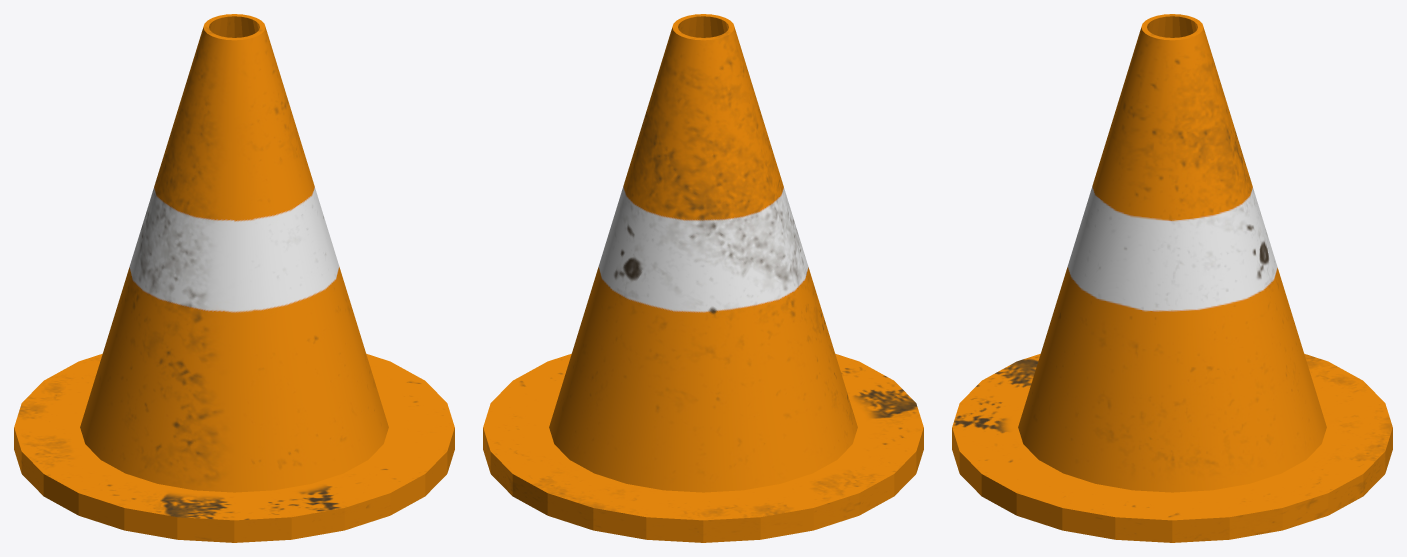
Rendered from street_cones1.FBX.
3 renders of one model, left to right at view 1: azimuth 30°, elevation 25°; view 2: azimuth 150°, elevation 25°; view 3: azimuth 270°, elevation 25°, orthographic.
Visible parts, largest first — view 1: Cone01; view 2: Cone01; view 3: Cone01.
Part boxes in pixels (x1=…): Cone01: x1=14, y1=14, x2=454, y2=542; Cone01: x1=483, y1=14, x2=923, y2=542; Cone01: x1=952, y1=14, x2=1392, y2=542.
Bounding box in the file's own units: 97.01 × 103 × 97.01.
Materials: 1 (1 with a texture image).
